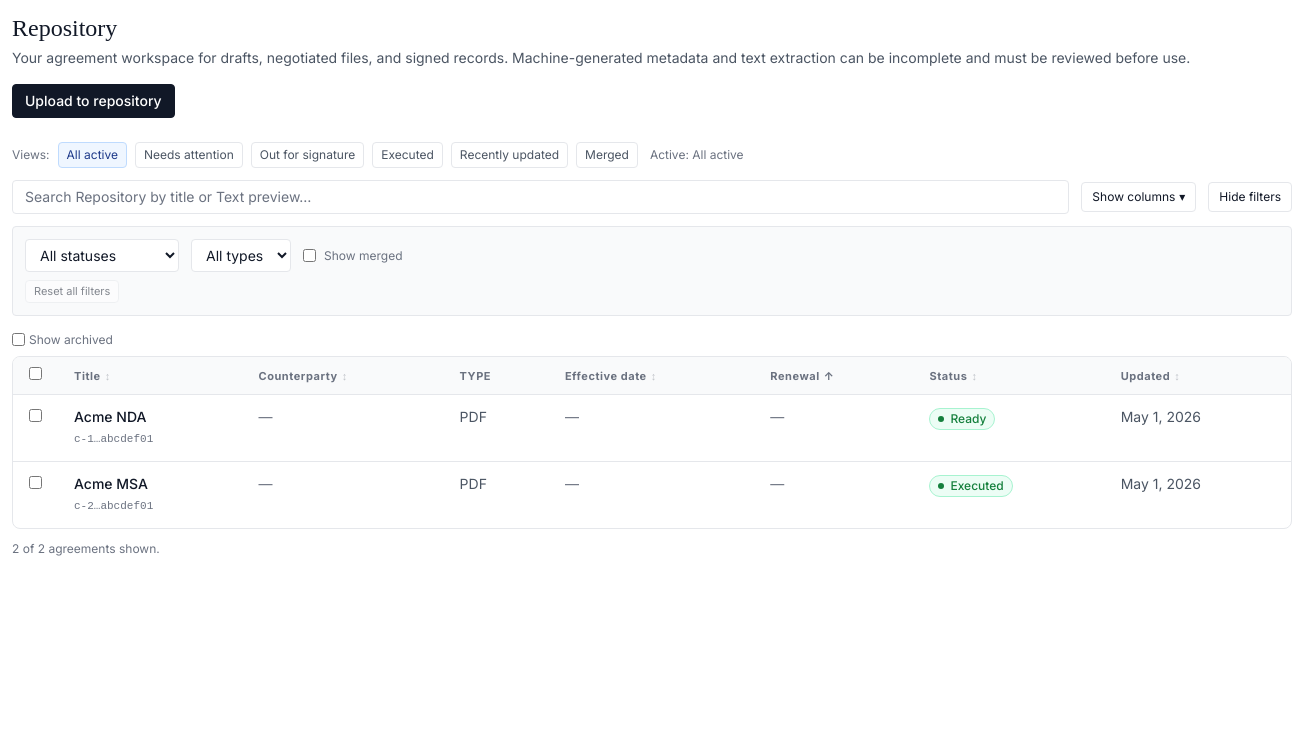
Scenario: ContractsPage (Repository list) › selecting Executed pushes status=executed to the URL and refilters
What coordinates should you click on to do the following:
click the button with test id "repository-view-executed"
I would click on:
 (408, 155)
Its box is top-left (372, 142), bottom-right (443, 168).
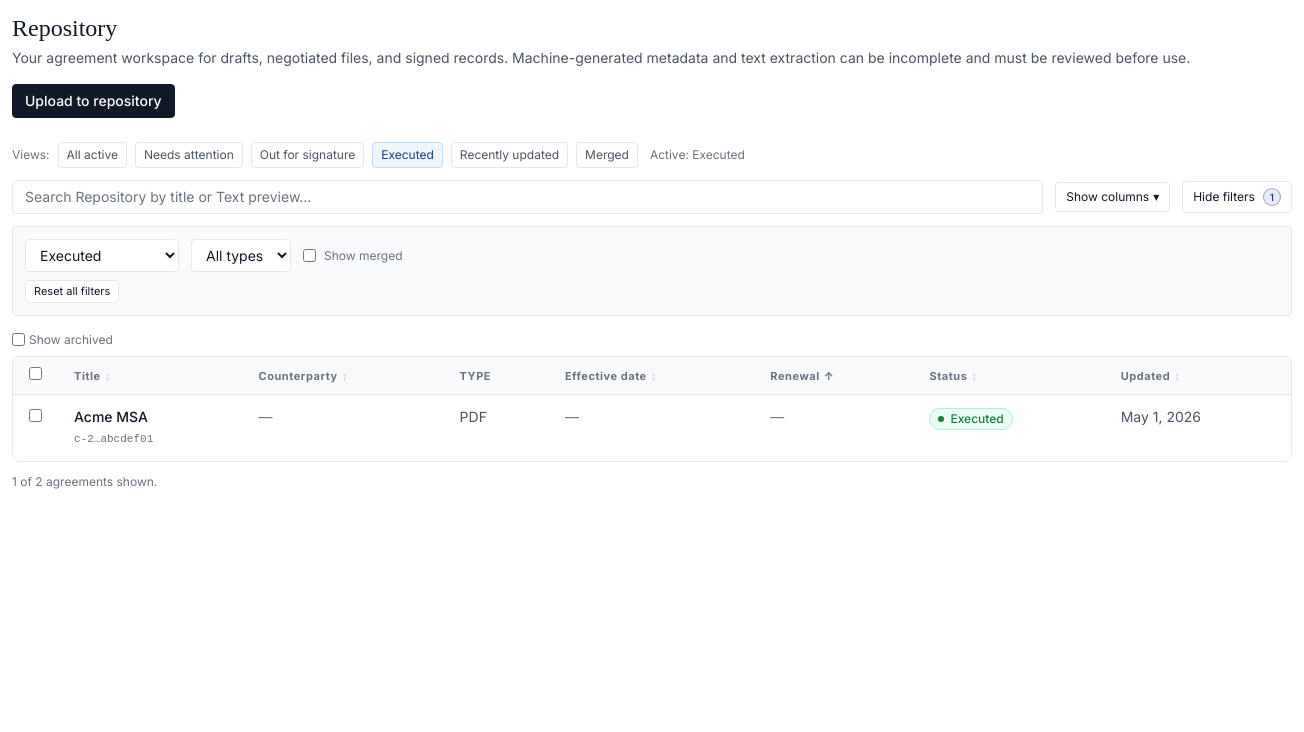
Result: the dropdown with test id "repository-filter-status" shows "Executed" at top-left (25, 239), bottom-right (179, 272)
